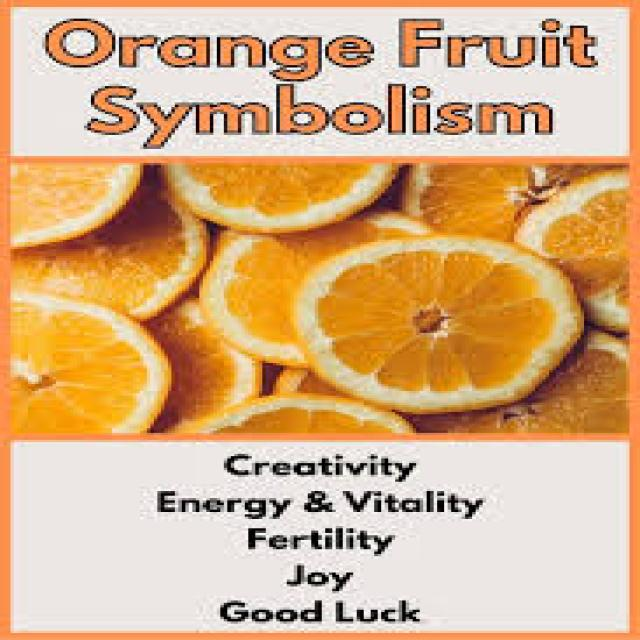orange: (286, 228, 598, 406)
